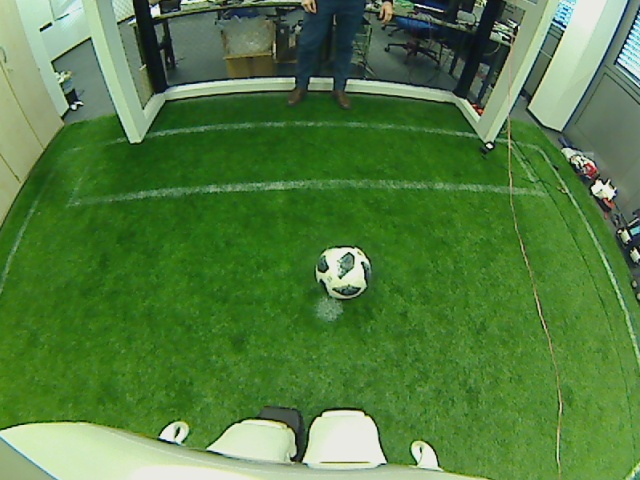ball: (312, 244, 374, 300)
